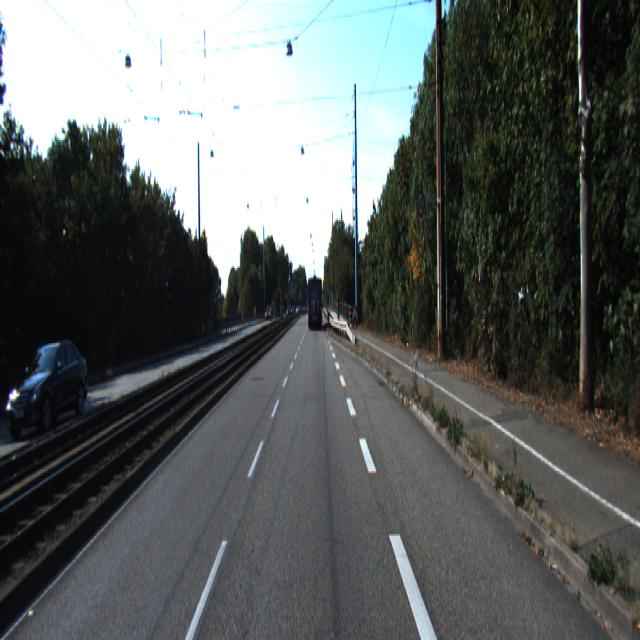Car: (6, 340, 90, 440), (308, 276, 322, 330)
